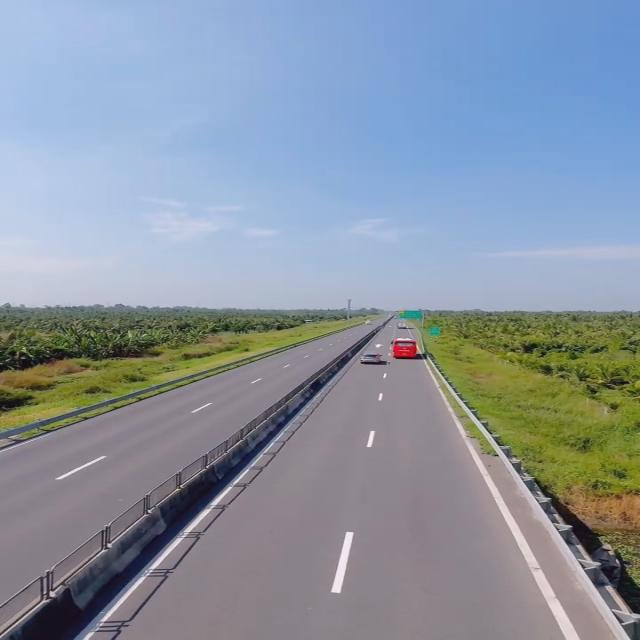bus: (393, 335, 422, 361)
car: (356, 349, 388, 366)
